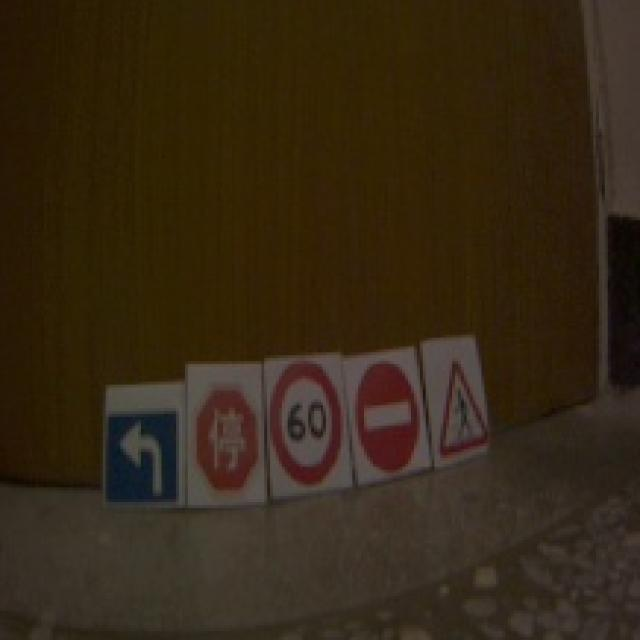DoNotEnterSign: (354, 361, 425, 473)
